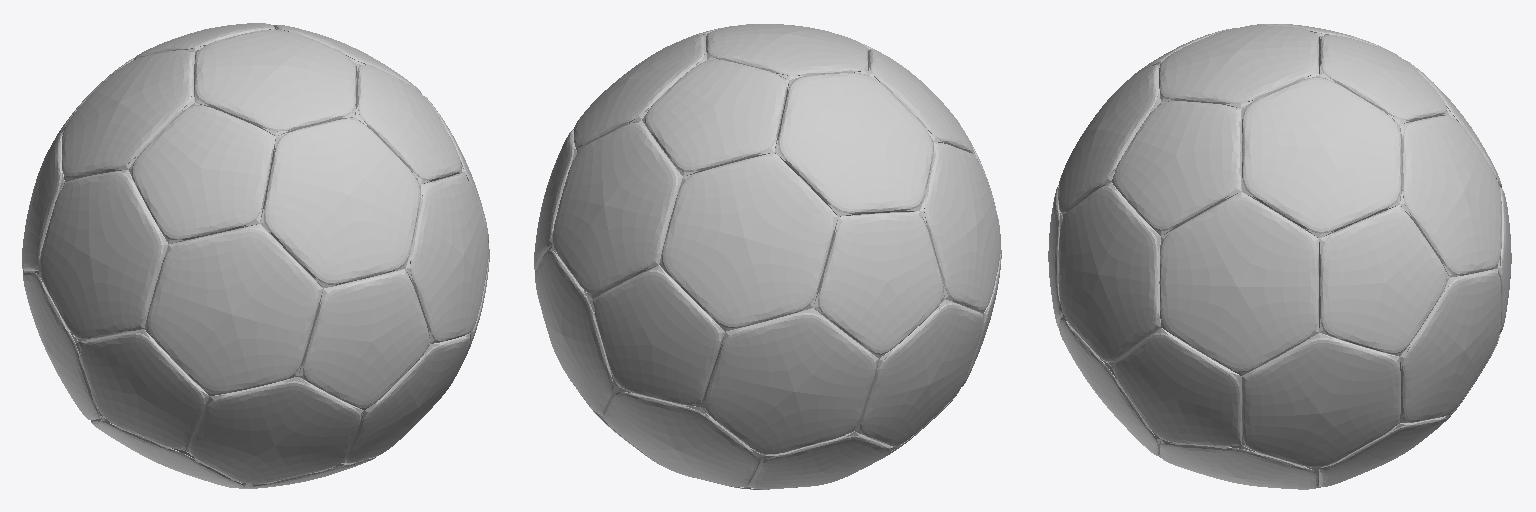
The model's file is football.obj.
3 renders of one model, left to right at view 1: azimuth 30°, elevation 25°; view 2: azimuth 150°, elevation 25°; view 3: azimuth 270°, elevation 25°, orthographic.
Parts seen in each view (by area): view 1: Football; view 2: Football; view 3: Football.
Part boxes in pixels (bbox=[...]): Football: bbox=[22, 23, 489, 488]; Football: bbox=[534, 24, 1001, 489]; Football: bbox=[1048, 24, 1511, 489].
Size of the model in its own units: 129 by 128 by 128.